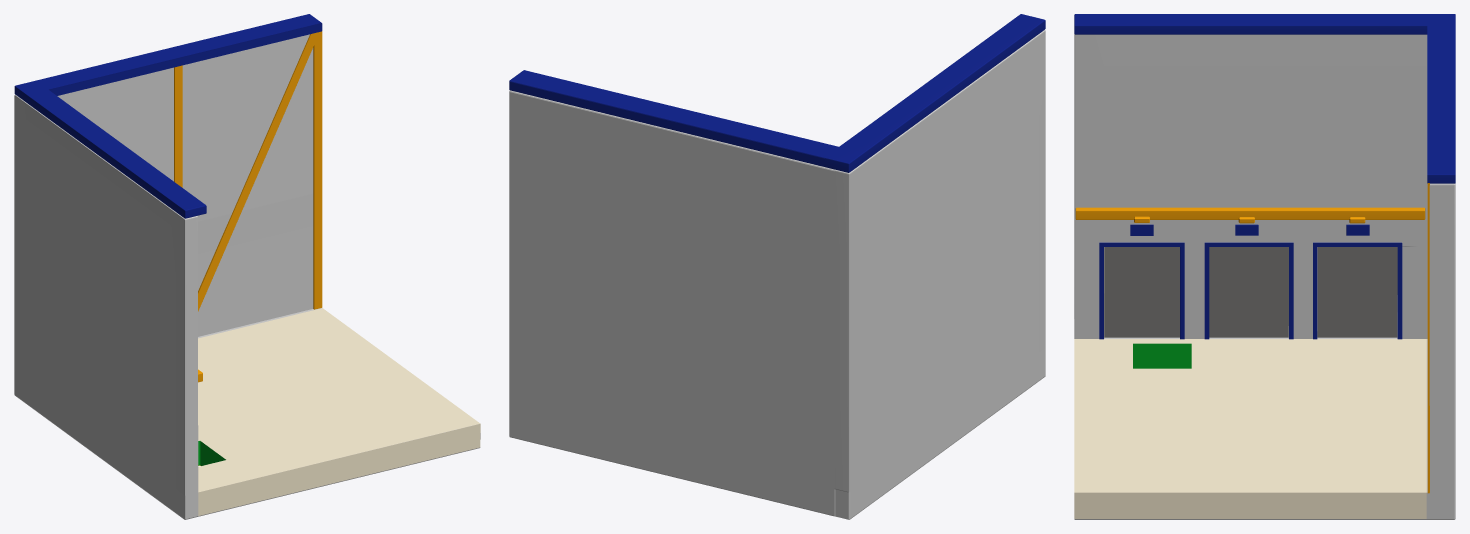
Rendered from cube_sta4.fbx.
The picture shows the model from 3 angles, left to right: view 1: azimuth 30°, elevation 25°; view 2: azimuth 150°, elevation 25°; view 3: azimuth 270°, elevation 25°; orthographic projection. The views are drawn at different scales.
Visible parts, largest first — view 1: polySurface63; view 2: polySurface63; view 3: polySurface63.
Boxes of the visible parts, bbox=[...] form: polySurface63: bbox=[14, 14, 480, 519]; polySurface63: bbox=[509, 14, 1045, 519]; polySurface63: bbox=[1074, 14, 1455, 519].
Bounding box in the file's own units: 6.49 × 6.5 × 6.5.
